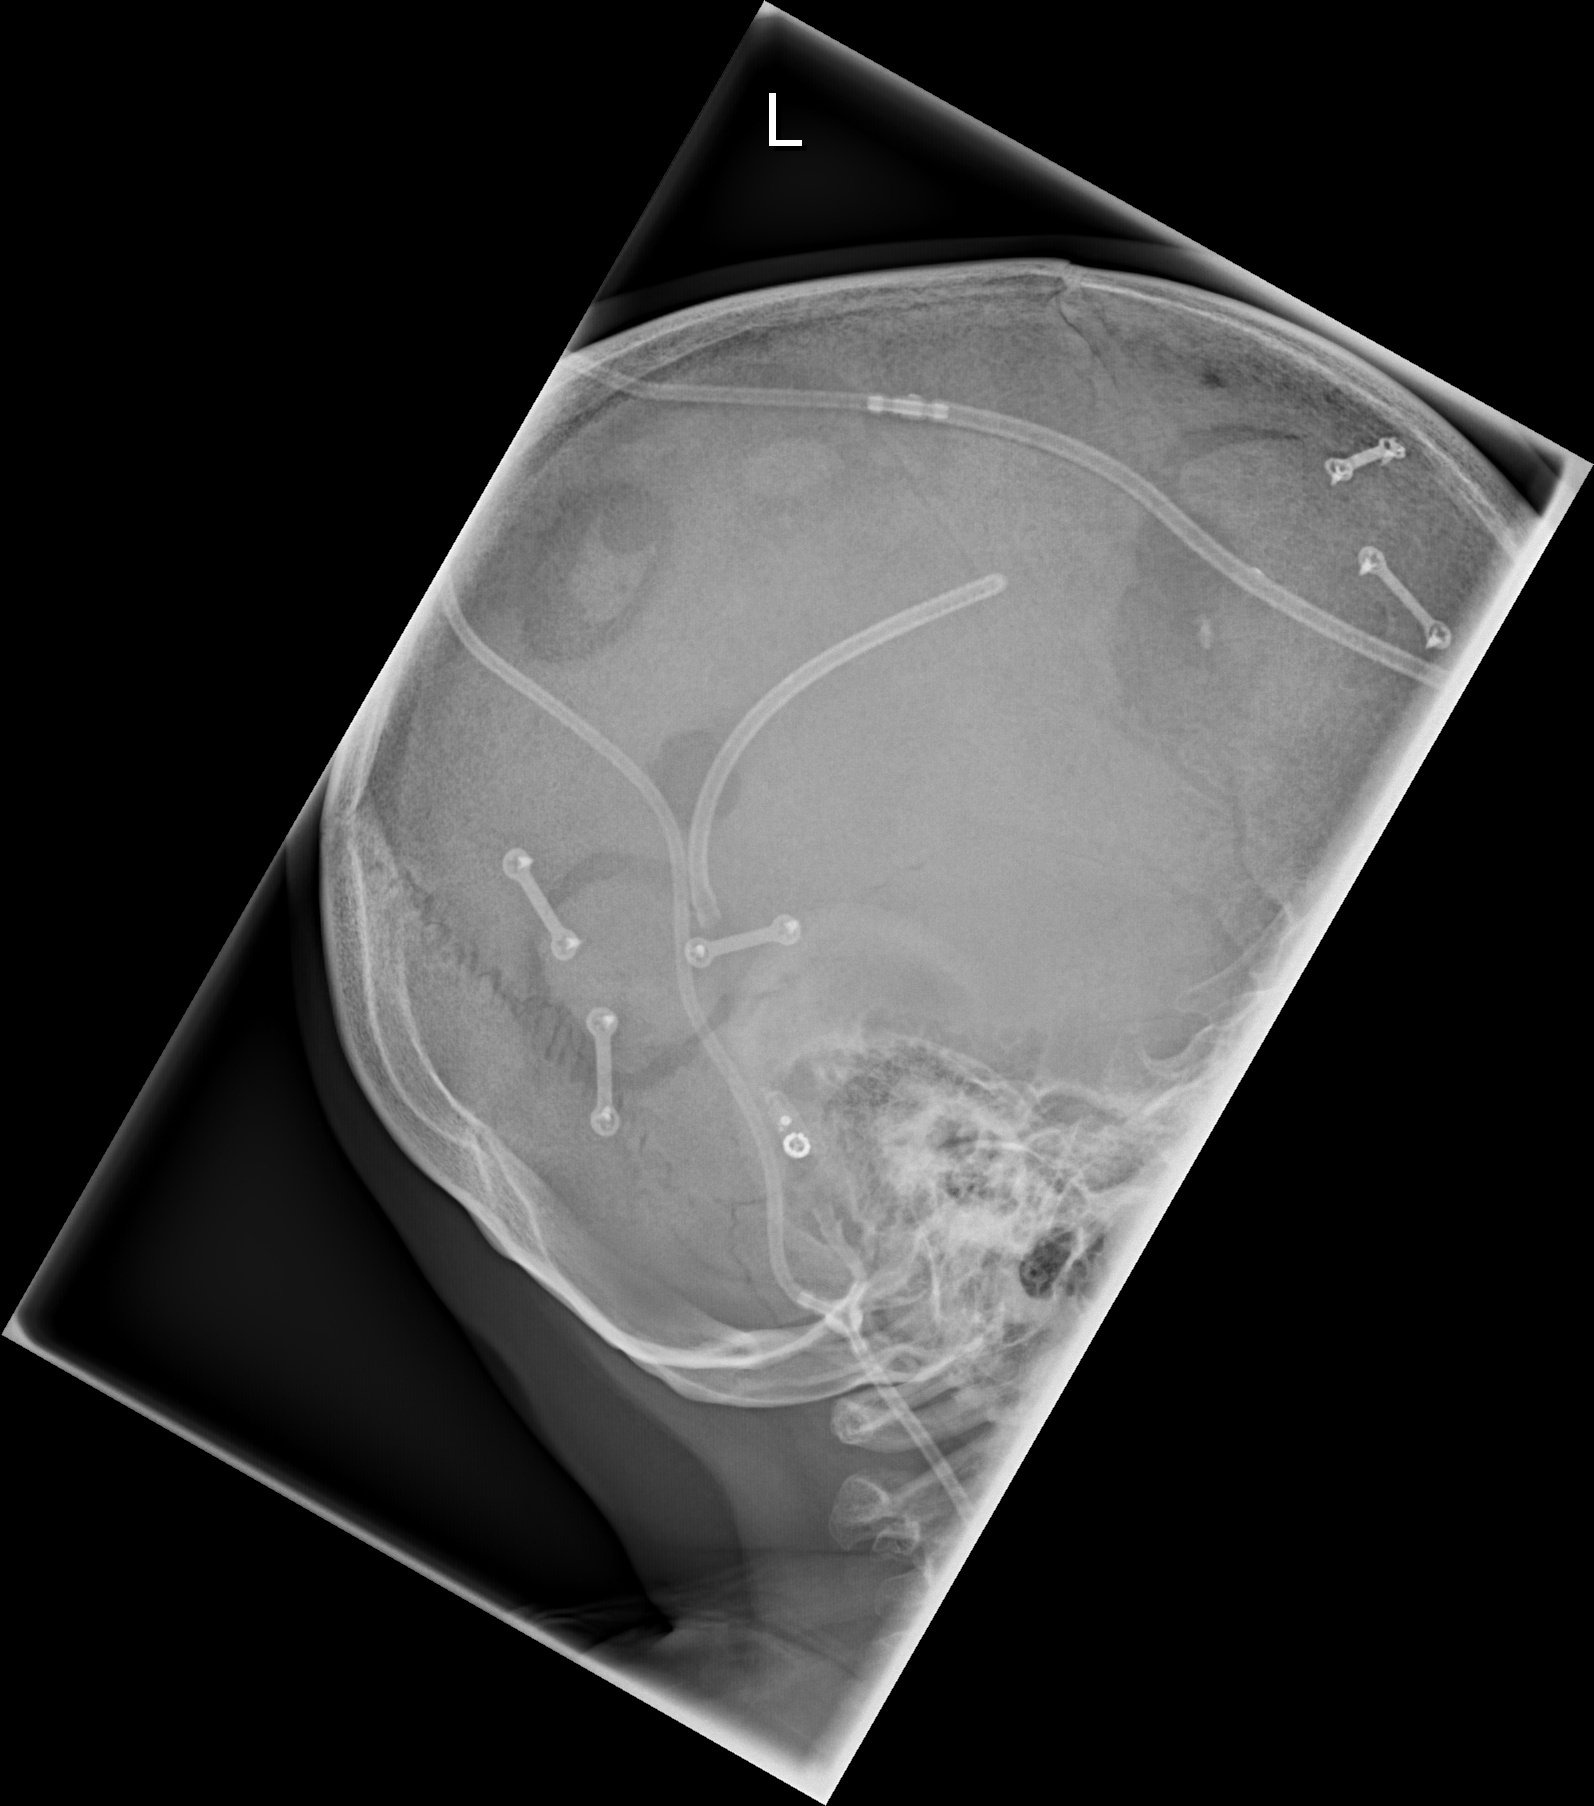Codman Hakim: (755, 1085, 817, 1185)
